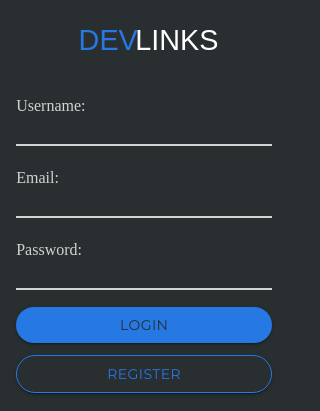
Test: Conditional Rendering to Register › Register will appear › switches to login
Click the button with id "login-button" at [144, 326], box [16,307,272,344]
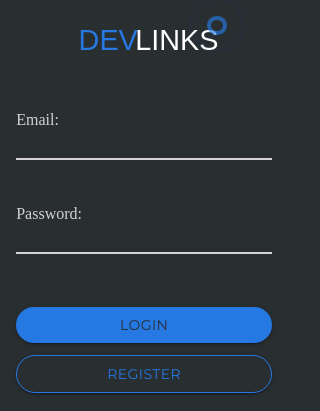
Now the field named "email" is shown, box [16,98,272,160]
Now the password field named "password" is shown, box [16,192,272,254]
